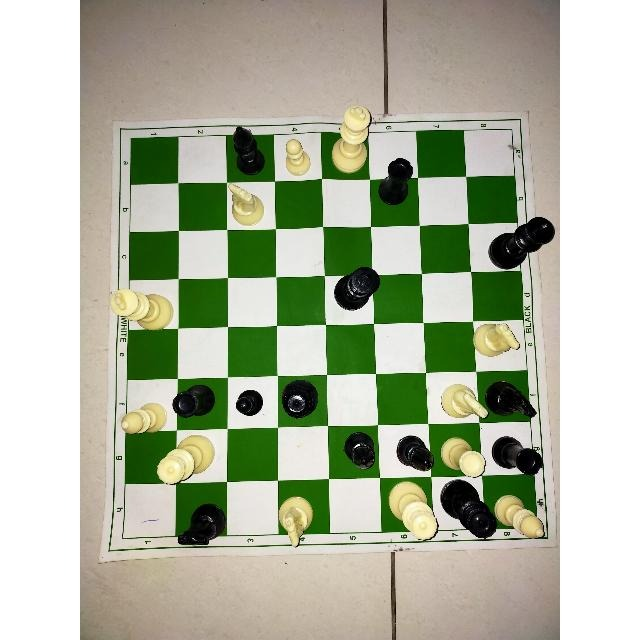black-bishop: (228, 123, 270, 177), (395, 432, 437, 476), (338, 432, 380, 476)
black-king: (485, 214, 556, 270), (332, 264, 382, 312)
black-knight: (173, 500, 228, 551), (483, 378, 536, 420)
black-pawn: (232, 386, 268, 419)
black-queen: (437, 477, 510, 549), (282, 376, 321, 419)
black-rook: (489, 430, 549, 476), (372, 153, 416, 209), (170, 381, 218, 422)
white-bishop: (493, 488, 547, 545), (117, 400, 174, 440)
white-king: (106, 285, 175, 337), (331, 101, 374, 176)
white-knight: (469, 319, 525, 365), (274, 490, 316, 550), (437, 382, 490, 424), (225, 179, 268, 229)
white-pawn: (280, 137, 316, 179)
white-queen: (386, 478, 439, 546), (153, 431, 216, 487)
white-rook: (439, 428, 489, 480)
